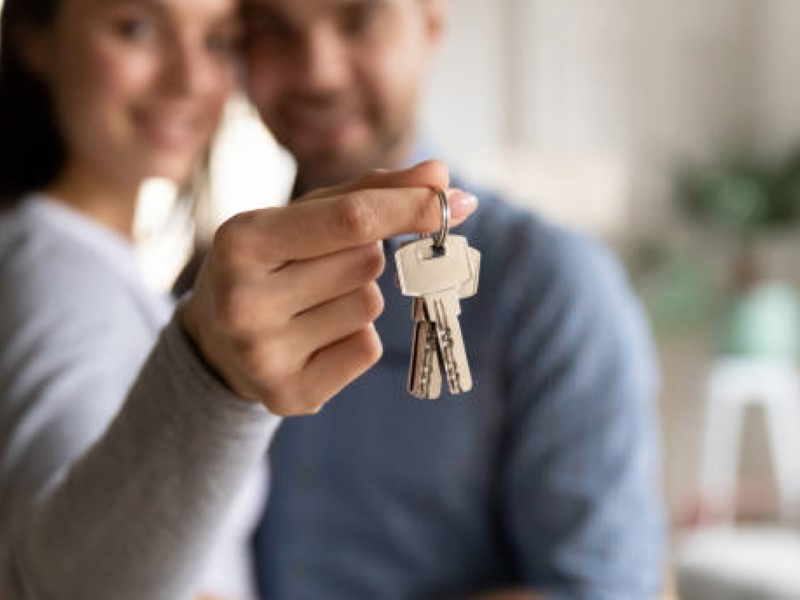key: (392, 228, 485, 404)
